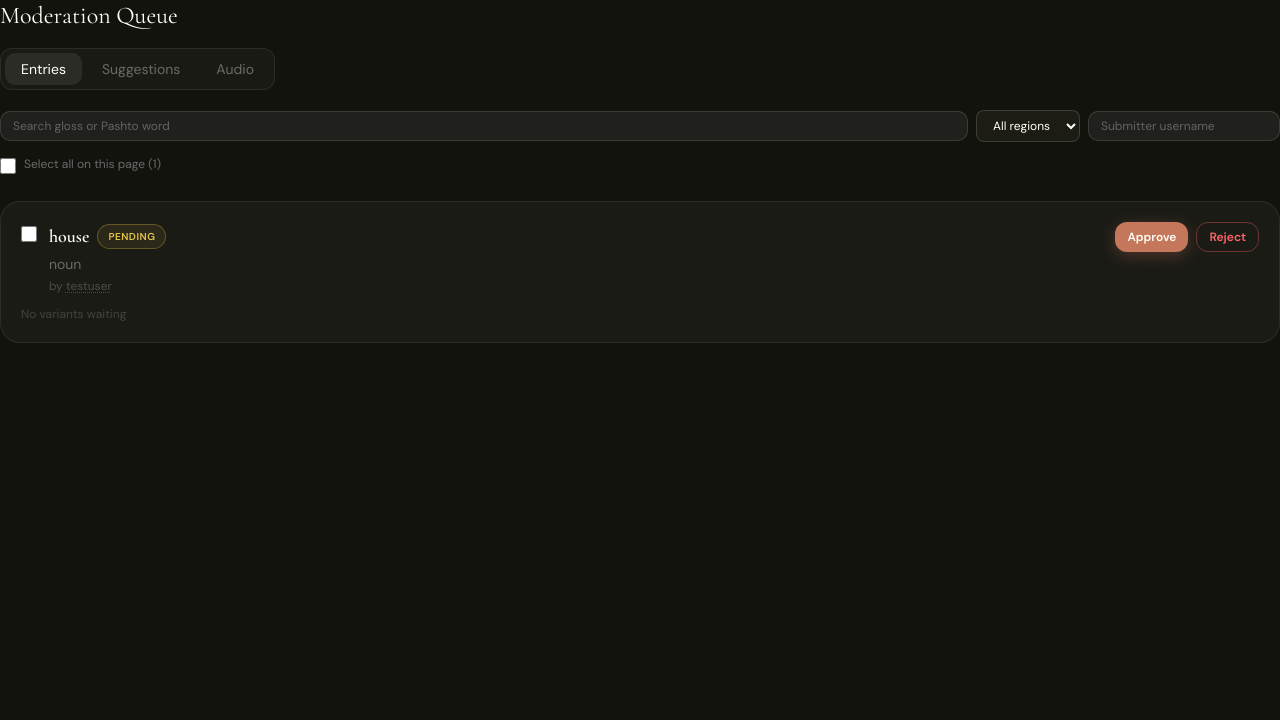
Test: Rejection note modal — Concepts tab › opens a modal/dialog when Reject is clicked on a concept
The width and height of the screenshot is (1280, 720).
Step 1. Click the button "Reject" → [1228, 237], box [1196,222,1259,252]
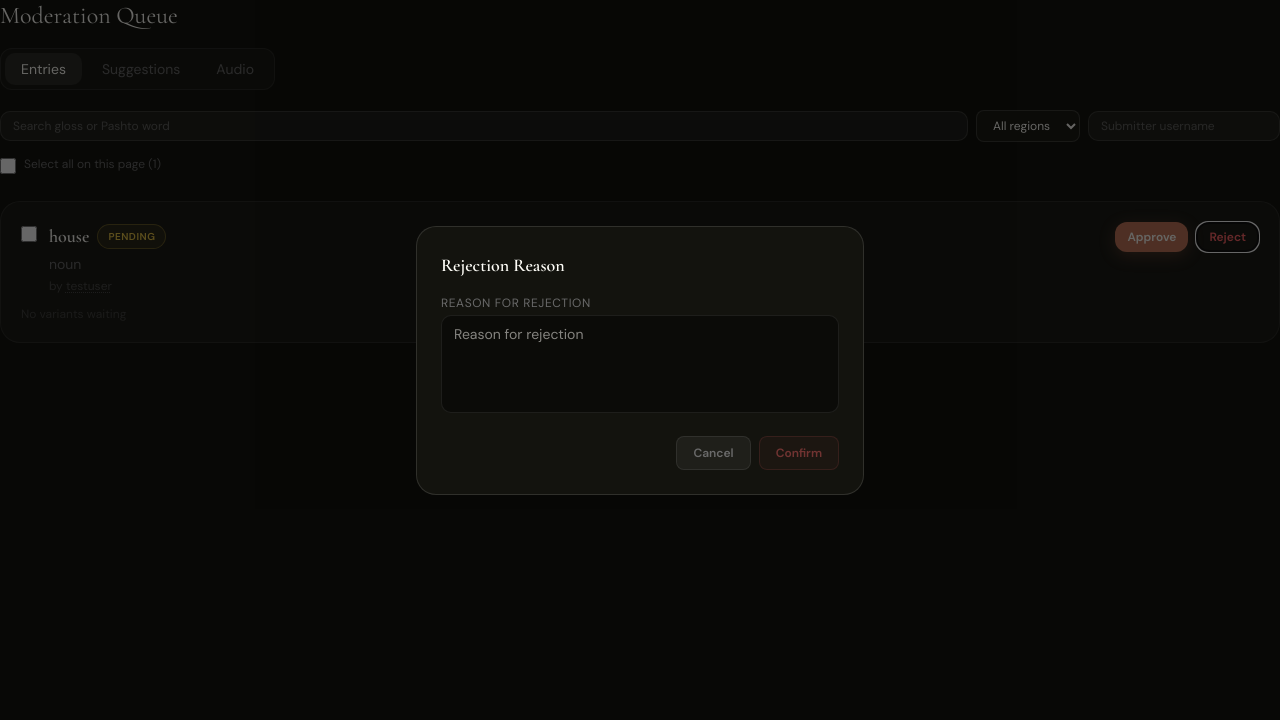
Check: the dialog is shown
